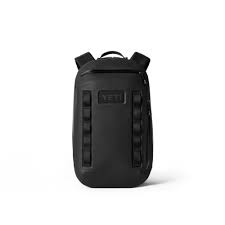bag: (57, 46, 160, 193)
